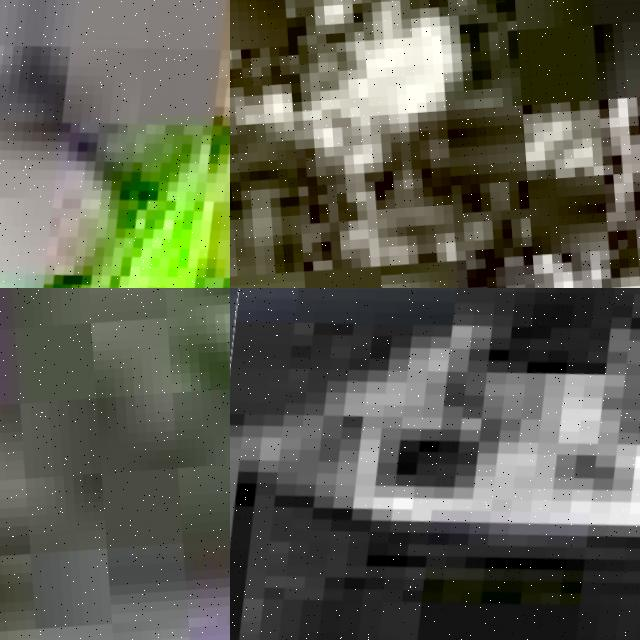0: (0, 0, 230, 288)
drone: (230, 288, 640, 640)
